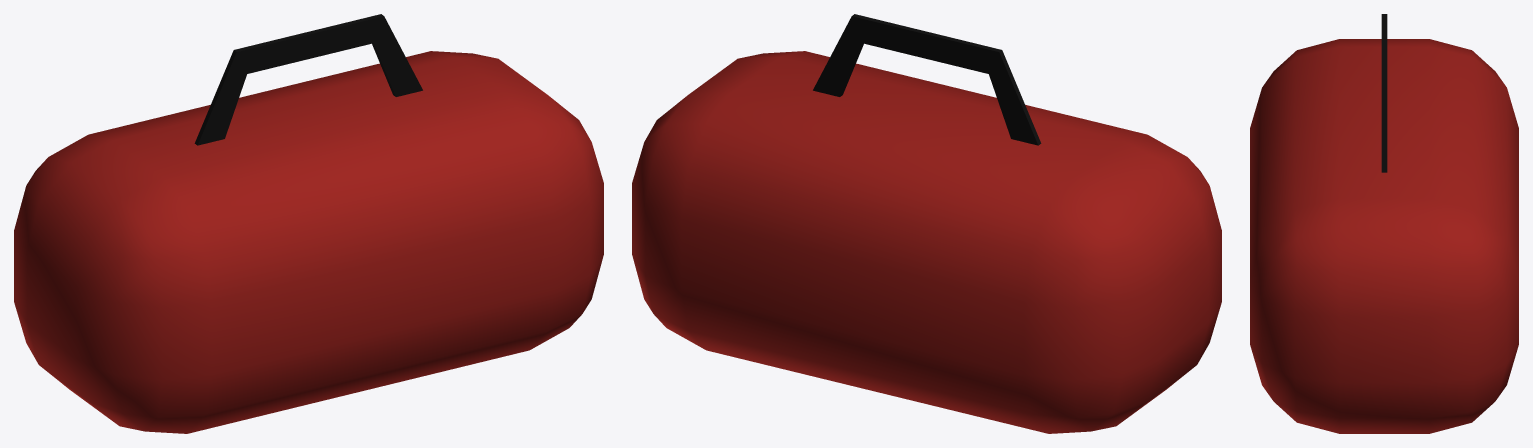
The model's file is airport.bags.holdall.glb.
3 renders of one model, left to right at view 1: azimuth 30°, elevation 25°; view 2: azimuth 150°, elevation 25°; view 3: azimuth 270°, elevation 25°, orthographic. The views are drawn at different scales.
Parts seen in each view (by area): view 1: main__fabric_red, main__plastic_black; view 2: main__fabric_red, main__plastic_black; view 3: main__fabric_red, main__plastic_black.
Boxes of the visible parts, x1=… form: main__fabric_red: x1=14, y1=51, x2=603, y2=433; main__plastic_black: x1=194, y1=14, x2=422, y2=145; main__fabric_red: x1=632, y1=51, x2=1221, y2=433; main__plastic_black: x1=813, y1=14, x2=1041, y2=145; main__fabric_red: x1=1250, y1=39, x2=1518, y2=433; main__plastic_black: x1=1381, y1=14, x2=1387, y2=172.
Size of the model in its own units: 0.6 by 0.3737 by 0.3.
